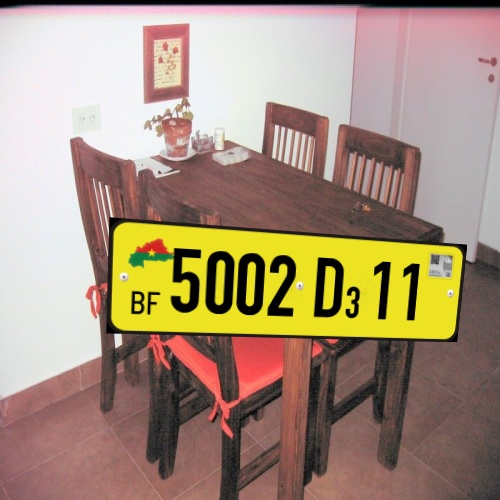plate: (99, 204, 477, 371)
